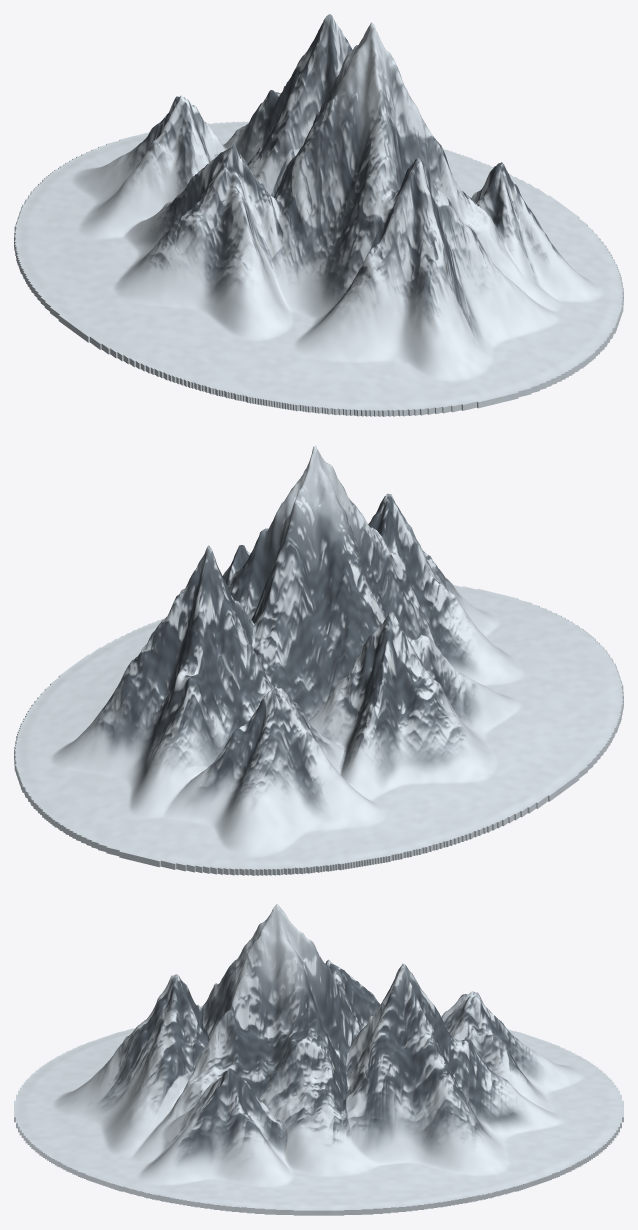
Rendered from IceAgeMountain_HQ.obj.
3 renders of one model, top to bottom at view 1: azimuth 30°, elevation 25°; view 2: azimuth 150°, elevation 25°; view 3: azimuth 270°, elevation 25°, orthographic. The views are drawn at different scales.
Visible parts, largest first — view 1: IceAgeMountain_HQ; view 2: IceAgeMountain_HQ; view 3: IceAgeMountain_HQ.
Boxes of the visible parts, x1=… form: IceAgeMountain_HQ: x1=14, y1=14, x2=623, y2=416; IceAgeMountain_HQ: x1=14, y1=445, x2=623, y2=875; IceAgeMountain_HQ: x1=14, y1=904, x2=623, y2=1215.
Size of the model in its own units: 147 by 74.71 by 186.
1 material, 1 textured.
